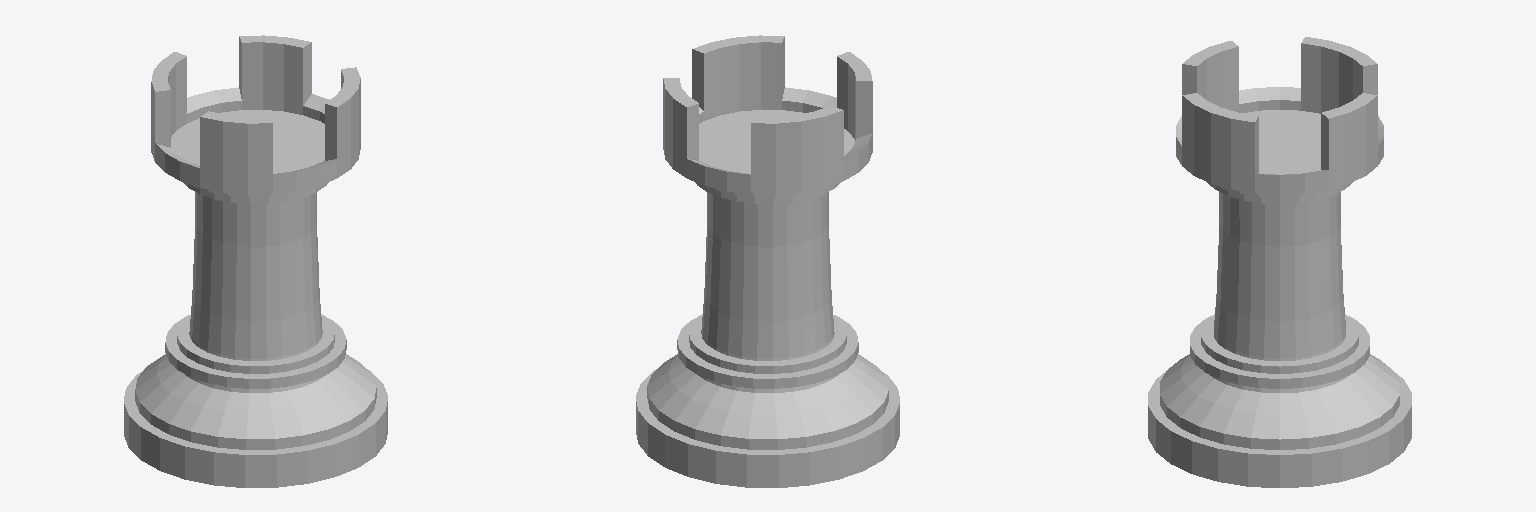
File: rook_white.obj
The picture shows the model from 3 angles: view 1: azimuth 30°, elevation 25°; view 2: azimuth 150°, elevation 25°; view 3: azimuth 270°, elevation 25°; orthographic projection.
Parts seen in each view (by area): view 1: rook_white_rook; view 2: rook_white_rook; view 3: rook_white_rook.
Boxes of the visible parts, box(x1,y1,x2,y2) form: rook_white_rook: box(124, 35, 387, 487); rook_white_rook: box(636, 35, 899, 487); rook_white_rook: box(1148, 37, 1411, 487).
Bounding box in the file's own units: 4.04 × 5.93 × 4.01.